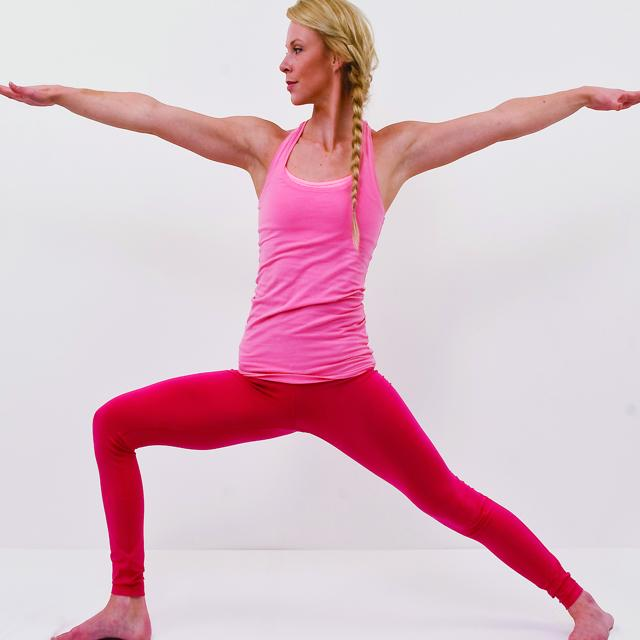Warrior_II: (1, 3, 632, 636)
